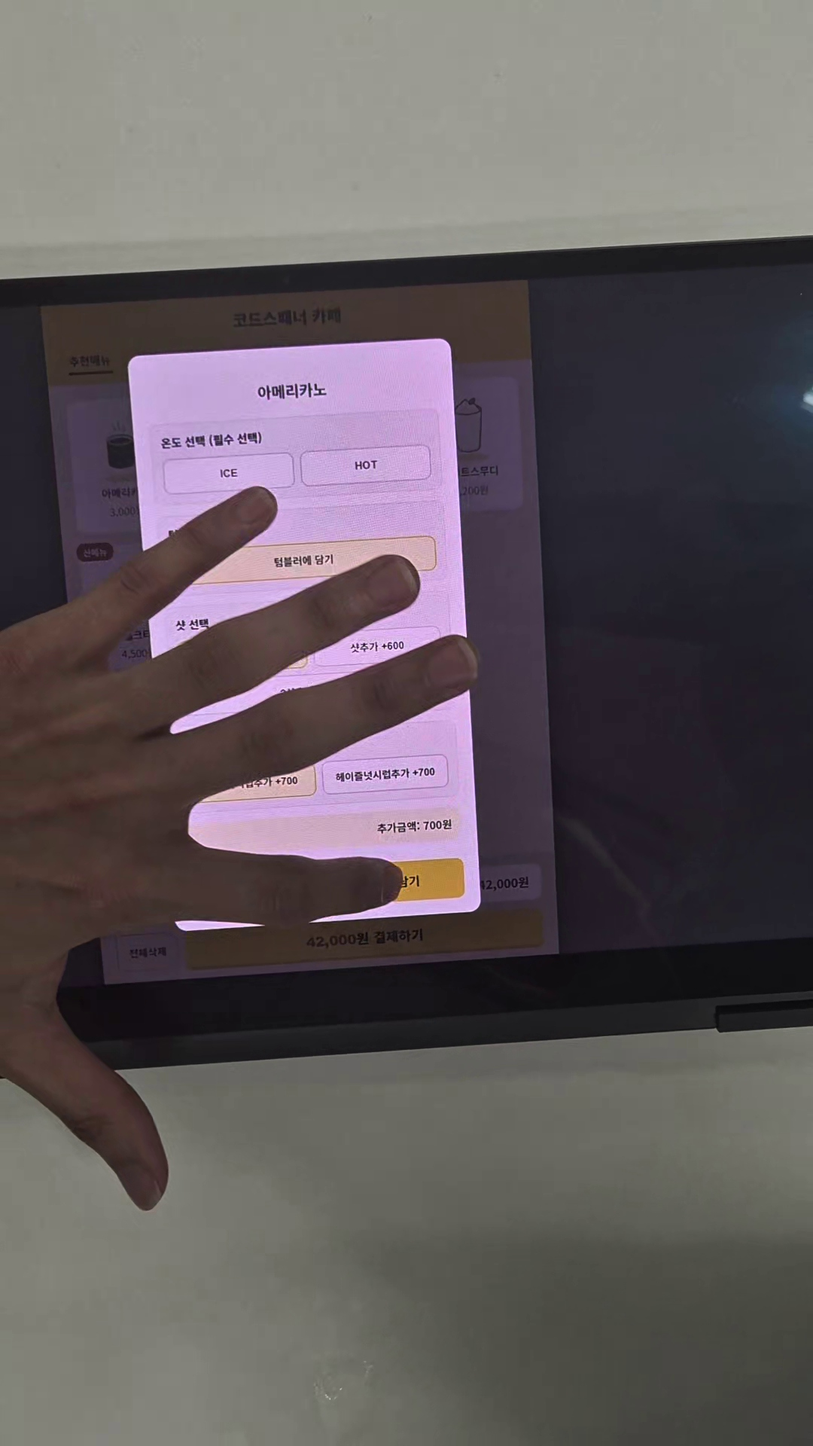option_button: (169, 532, 439, 586), (299, 444, 434, 487), (168, 453, 294, 497), (315, 624, 443, 664), (321, 758, 450, 793)
popup_modal: (130, 335, 486, 933)
